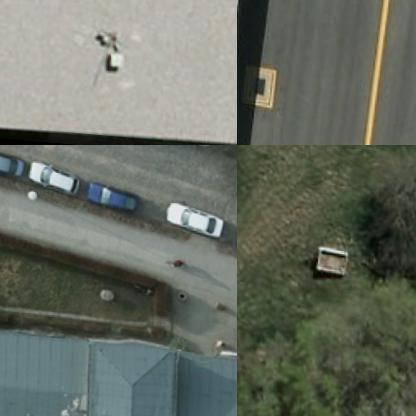car: (158, 204, 220, 242), (20, 160, 76, 196), (81, 186, 132, 216), (0, 146, 19, 183)
